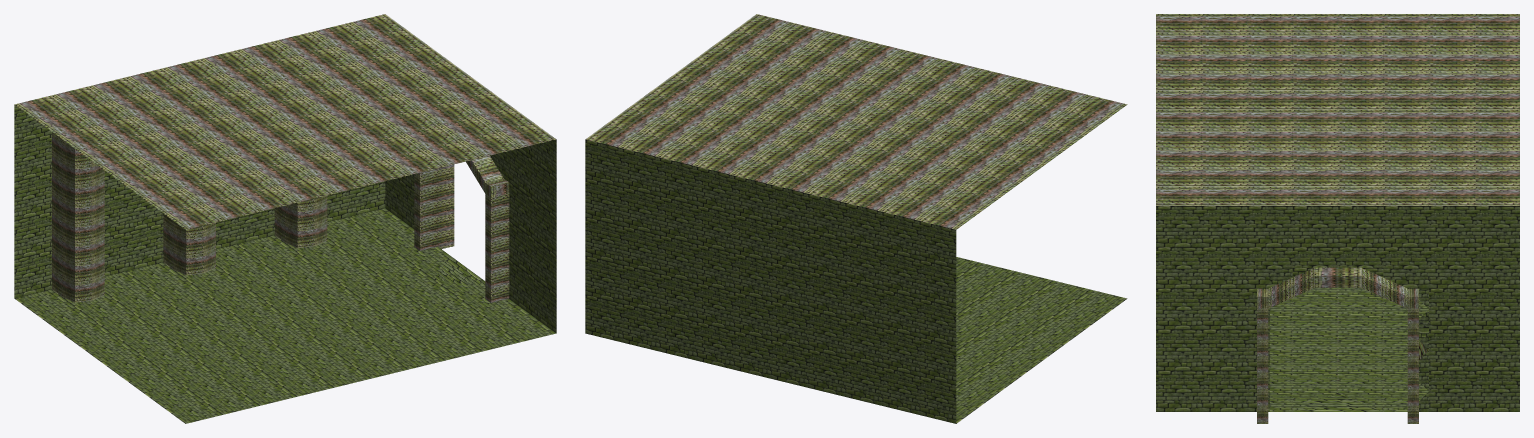
File: backgroundGame.fbx
The picture shows the model from 3 angles, left to right: view 1: azimuth 30°, elevation 25°; view 2: azimuth 150°, elevation 25°; view 3: azimuth 270°, elevation 25°; orthographic projection. The views are drawn at different scales.
Parts seen in each view (by area): view 1: Plane, Cube.001, Cube, Cube.002, Cube.003; view 2: Plane; view 3: Plane, Cube.
Boxes of the visible parts, x1=… form: Plane: x1=14, y1=14, x2=556, y2=423; Cube.001: x1=33, y1=118, x2=104, y2=302; Cube: x1=414, y1=155, x2=509, y2=302; Cube.002: x1=163, y1=214, x2=215, y2=275; Cube.003: x1=274, y1=195, x2=327, y2=248; Plane: x1=585, y1=14, x2=1127, y2=423; Plane: x1=1156, y1=14, x2=1519, y2=411; Cube: x1=1257, y1=267, x2=1418, y2=423.
Bounding box in the file's own units: 1044 × 508 × 800.
